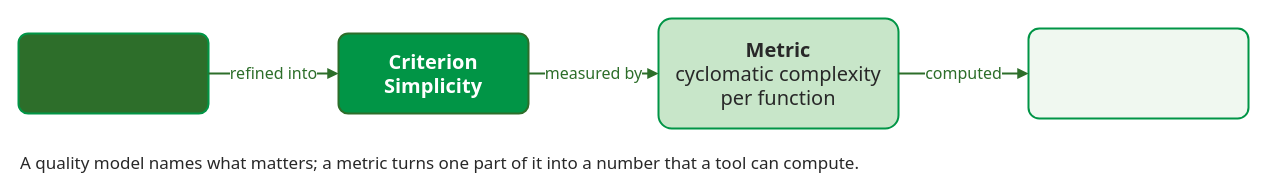
Some shapes in this 1266 by 195 pixel diagram are drawn without their labels. Each missing label, with the centre of its shape:
Factor Maintainability: (113,73)
Value delivery_fee: 6 (as radon counts): (1138,73)
